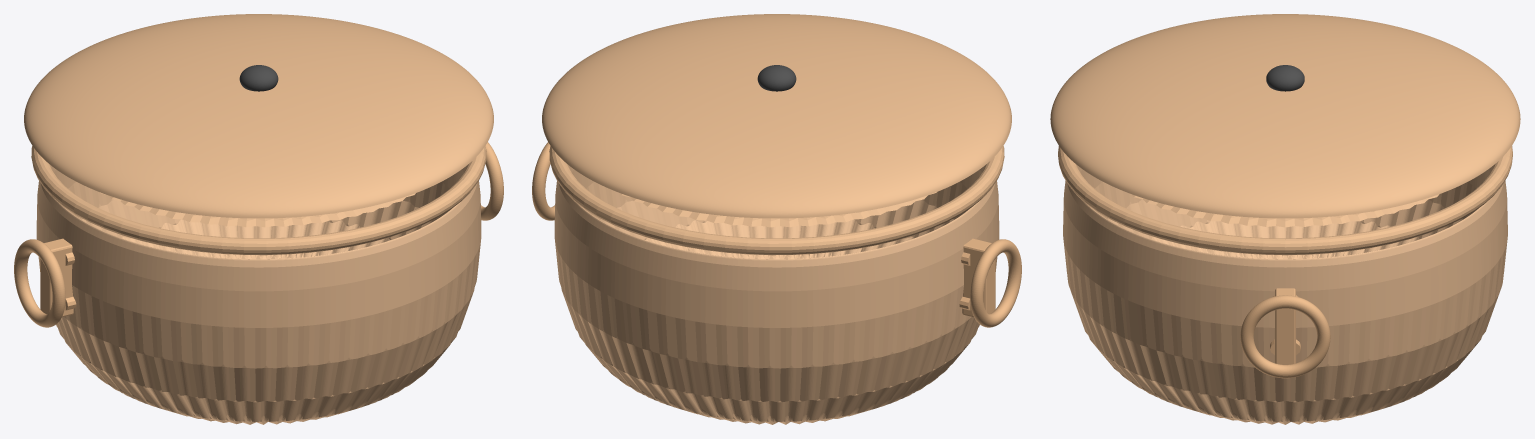
3 views of the same model, side by side, from view 1: azimuth 30°, elevation 25°; view 2: azimuth 150°, elevation 25°; view 3: azimuth 270°, elevation 25° (orthographic).
Visible parts, largest first — view 1: Pot_Lid, Pot_Body, Pot_Rim, Pot_Handle_2, Lid_Rim, Pot_Handle_Connector_2, Pot_Handle_1, Lid_Knob_Top; view 2: Pot_Lid, Pot_Body, Pot_Rim, Pot_Handle_2, Lid_Rim, Pot_Handle_Connector_2, Pot_Handle_1, Lid_Knob_Top; view 3: Pot_Lid, Pot_Body, Pot_Rim, Pot_Handle_1, Lid_Rim, Pot_Handle_Connector_1, Lid_Knob_Top.
Boxes of the visible parts, box(x1,y1,x2,y2) form: Pot_Lid: box(24, 14, 493, 218); Pot_Body: box(36, 165, 481, 424); Pot_Rim: box(31, 146, 486, 255); Pot_Handle_2: box(14, 239, 65, 327); Lid_Rim: box(99, 192, 415, 227); Pot_Handle_Connector_2: box(40, 238, 73, 317); Pot_Handle_1: box(481, 142, 503, 220); Lid_Knob_Top: box(239, 65, 278, 91); Pot_Lid: box(542, 14, 1011, 218); Pot_Body: box(554, 165, 999, 424); Pot_Rim: box(549, 146, 1004, 255); Pot_Handle_2: box(970, 239, 1021, 327); Lid_Rim: box(620, 192, 936, 227); Pot_Handle_Connector_2: box(962, 238, 995, 317); Pot_Handle_1: box(532, 142, 554, 220); Lid_Knob_Top: box(757, 65, 796, 91); Pot_Lid: box(1050, 14, 1520, 218); Pot_Body: box(1063, 165, 1507, 424); Pot_Rim: box(1058, 146, 1512, 255); Pot_Handle_1: box(1240, 295, 1330, 378); Lid_Rim: box(1131, 194, 1439, 227); Pot_Handle_Connector_1: box(1275, 288, 1295, 364); Lid_Knob_Top: box(1266, 65, 1304, 91).
Bounding box in the file's own units: 0.7391 × 0.517 × 0.6689.
